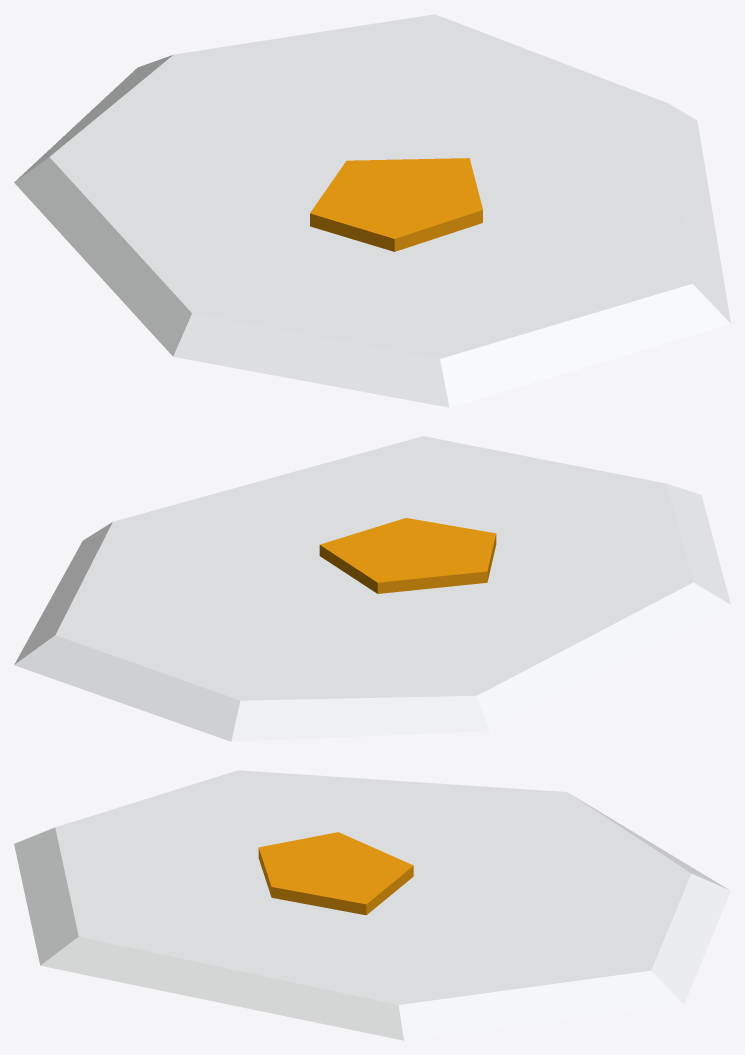
Rendered from Egg.fbx.
The picture shows the model from 3 angles, top to bottom: view 1: azimuth 30°, elevation 25°; view 2: azimuth 150°, elevation 25°; view 3: azimuth 270°, elevation 25°; orthographic projection. The views are drawn at different scales.
Parts seen in each view (by area): view 1: Egg; view 2: Egg; view 3: Egg.
Part boxes in pixels (bbox=[...]): Egg: bbox=[14, 14, 730, 407]; Egg: bbox=[14, 436, 730, 741]; Egg: bbox=[14, 770, 730, 1040].
Bounding box in the file's own units: 30.25 × 1.82 × 35.19.
